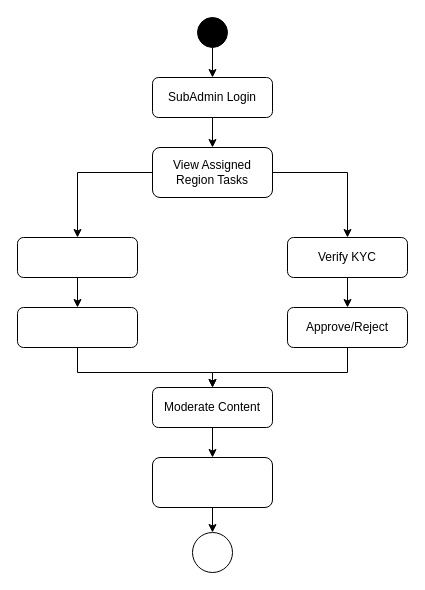
Some shapes in this 425 by 590 pixel diagram are drawn without their labels. The centre of each missing label's shape, as x and y in pixels:
"Review Reports" goes at point (77, 257).
"Submit Report to Admin" goes at point (212, 482).
"Take Action" goes at point (77, 327).
